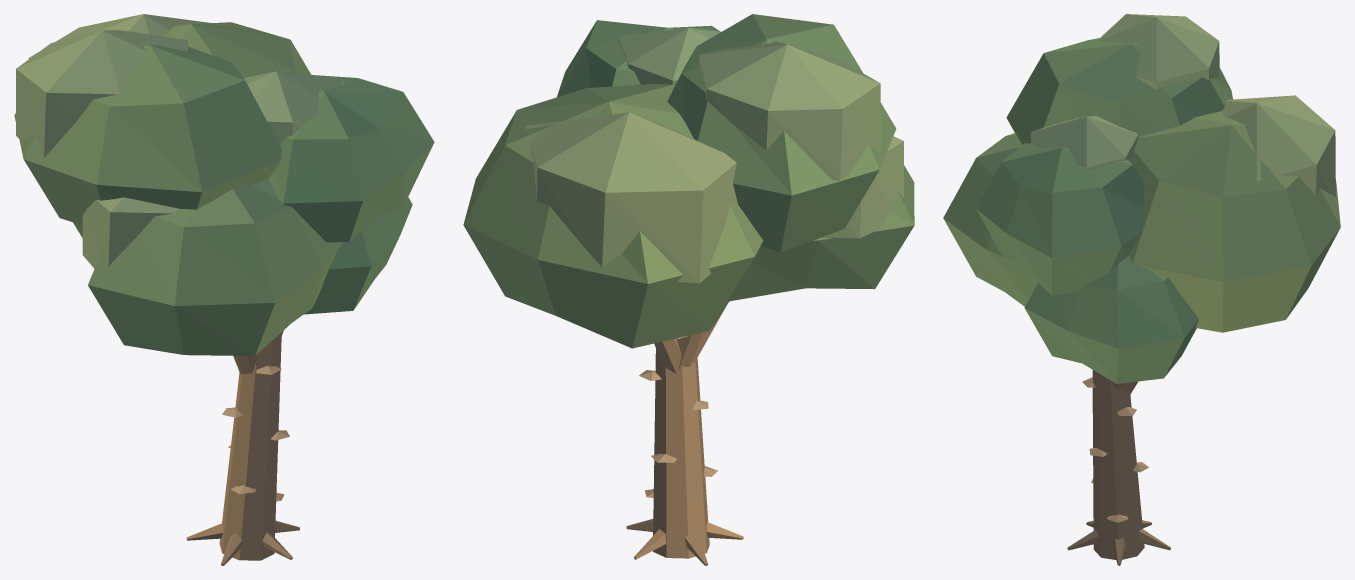
The model's file is extension_node_15.glb.
3 views of the same model, side by side, from view 1: azimuth 30°, elevation 25°; view 2: azimuth 150°, elevation 25°; view 3: azimuth 270°, elevation 25° (orthographic). The views are drawn at different scales.
Visible parts, largest first — view 1: extension_node_15; view 2: extension_node_15; view 3: extension_node_15.
Boxes of the visible parts, left/top/right/bottom form: extension_node_15: left=14, top=14, right=434, bottom=565; extension_node_15: left=463, top=14, right=914, bottom=565; extension_node_15: left=943, top=14, right=1340, bottom=565.
Size of the model in its own units: 2.65 by 3.62 by 2.73.
